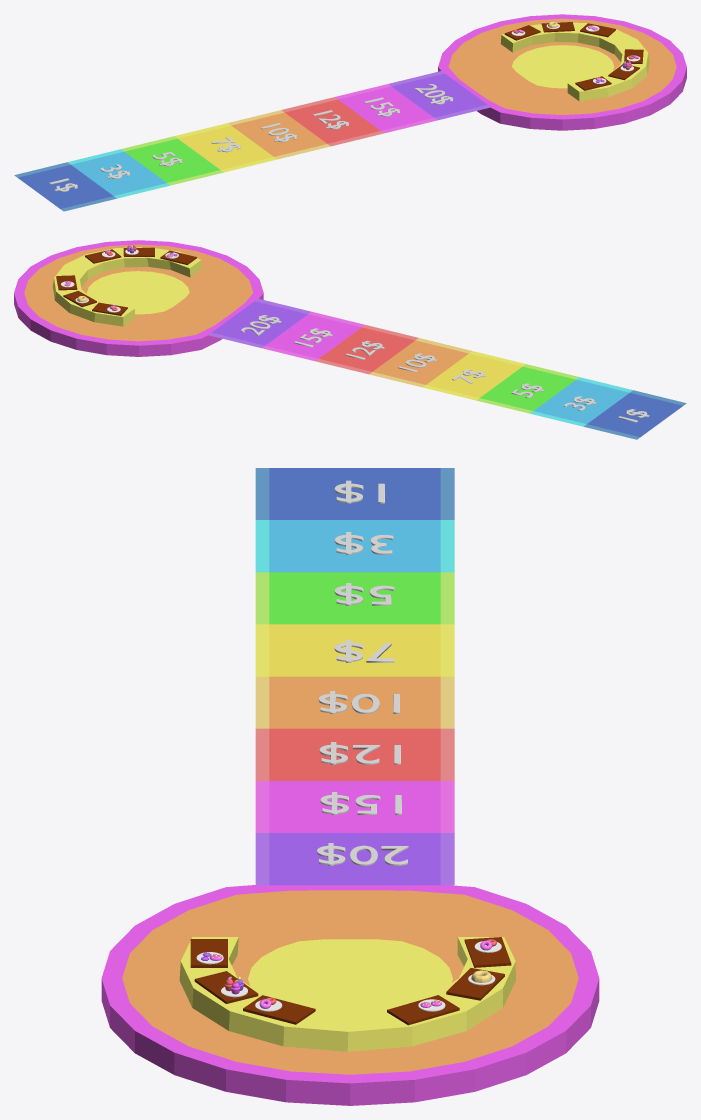
File: Finish.fbx
The picture shows the model from 3 angles, top to bottom: view 1: azimuth 30°, elevation 25°; view 2: azimuth 150°, elevation 25°; view 3: azimuth 270°, elevation 25°; orthographic projection. The views are drawn at different scales.
Visible parts, largest first — view 1: Cube.004, Cylinder.001, Circle.002, Text.007; view 2: Cube.004, Cylinder.001, Circle.002, Text.007; view 3: Cube.004, Cylinder.001, Circle.002, Text.007, Cube.011, Cube.012, Text.004, Text.006, Text.005.
Boxes of the visible parts, x1,y1,x2,y2 form: Cube.004: (14, 71, 490, 211); Cylinder.001: (438, 14, 686, 130); Circle.002: (500, 22, 649, 101); Text.007: (414, 84, 453, 104); Cube.004: (208, 298, 686, 439); Cylinder.001: (14, 240, 263, 356); Circle.002: (52, 247, 202, 326); Text.007: (241, 315, 281, 335); Cube.004: (255, 468, 454, 885); Cylinder.001: (101, 885, 599, 1105); Circle.002: (179, 937, 515, 1051); Text.007: (317, 843, 408, 865); Cube.011: (387, 995, 459, 1025); Cube.012: (243, 995, 315, 1024); Text.004: (318, 691, 399, 713); Text.006: (320, 792, 401, 814); Text.005: (319, 742, 400, 764).
Size of the model in its own units: 585 by 25.7 by 200.
